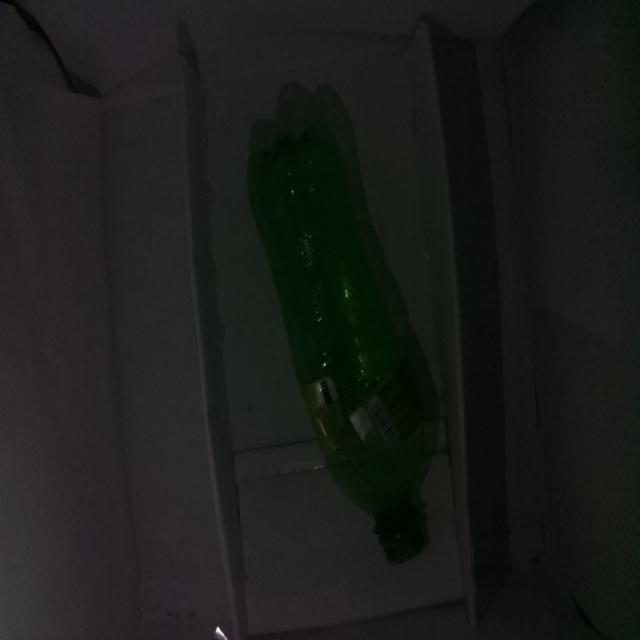Anorganik: (238, 111, 461, 568)
